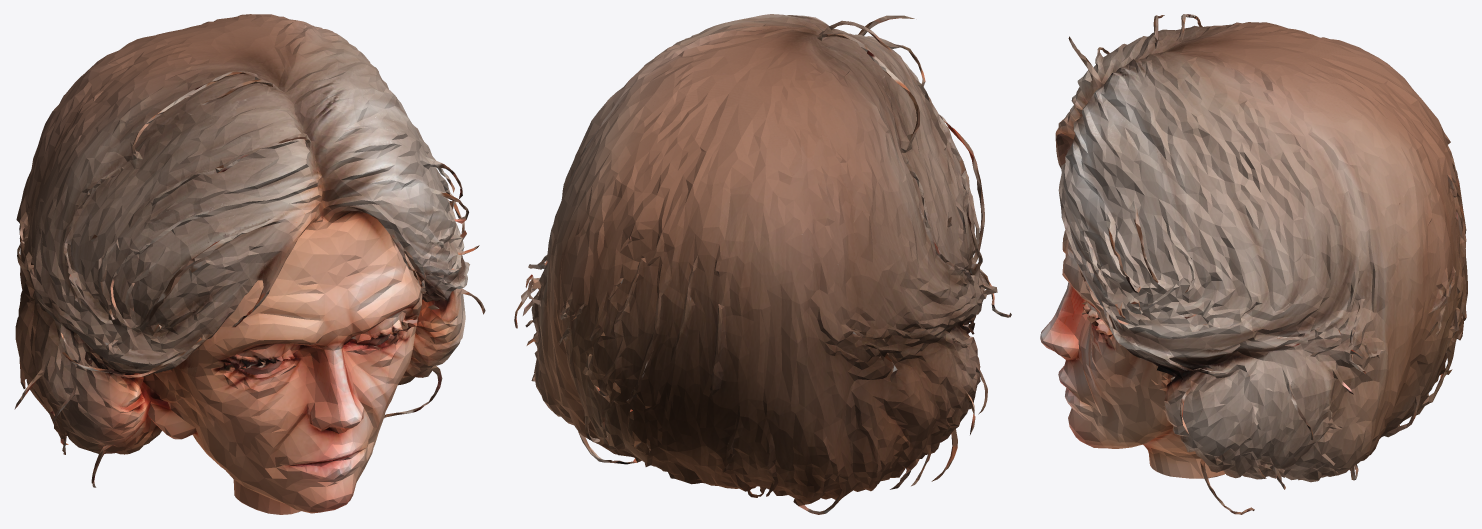
Rendered from traveler_head_side_grandmother_slim_socket_00001_.glb.
The picture shows the model from 3 angles, left to right: view 1: azimuth 30°, elevation 25°; view 2: azimuth 150°, elevation 25°; view 3: azimuth 270°, elevation 25°; orthographic projection. The views are drawn at different scales.
Visible parts, largest first — view 1: temp_mesh.ply; view 2: temp_mesh.ply; view 3: temp_mesh.ply.
Part boxes in pixels (x1=…): temp_mesh.ply: x1=14, y1=14, x2=485, y2=514; temp_mesh.ply: x1=514, y1=14, x2=1011, y2=514; temp_mesh.ply: x1=1040, y1=14, x2=1467, y2=514.
Bounding box in the file's own units: 1.96 × 1.89 × 1.73.
Materials: 1 (1 with a texture image).
